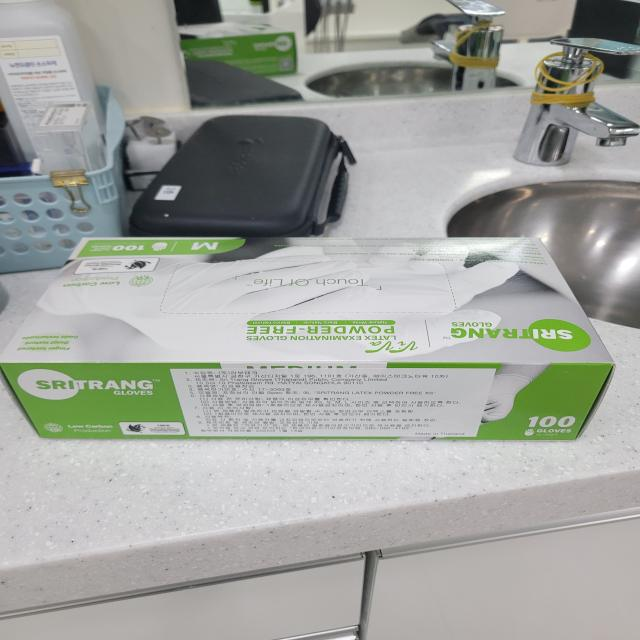glove: (13, 220, 625, 454)
